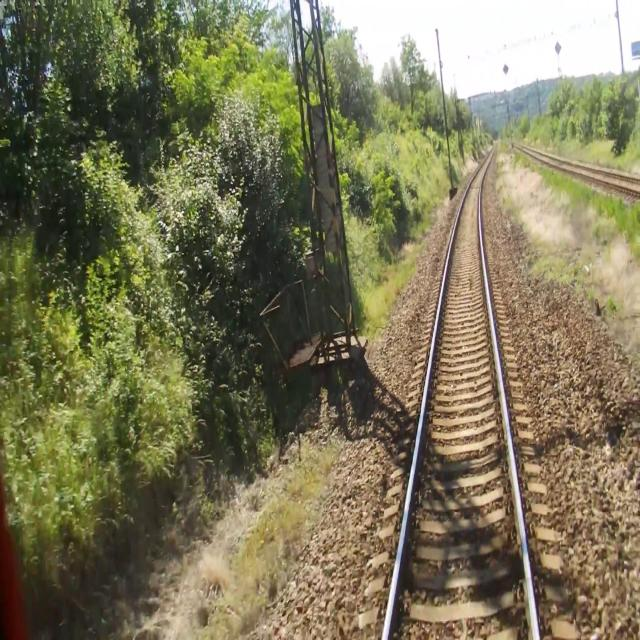rail-track: (387, 148, 534, 639), (513, 143, 640, 190)
